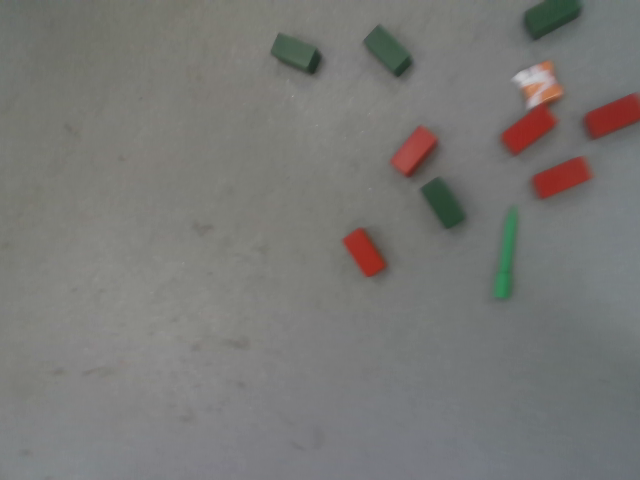Probe: (487, 202, 521, 301)
